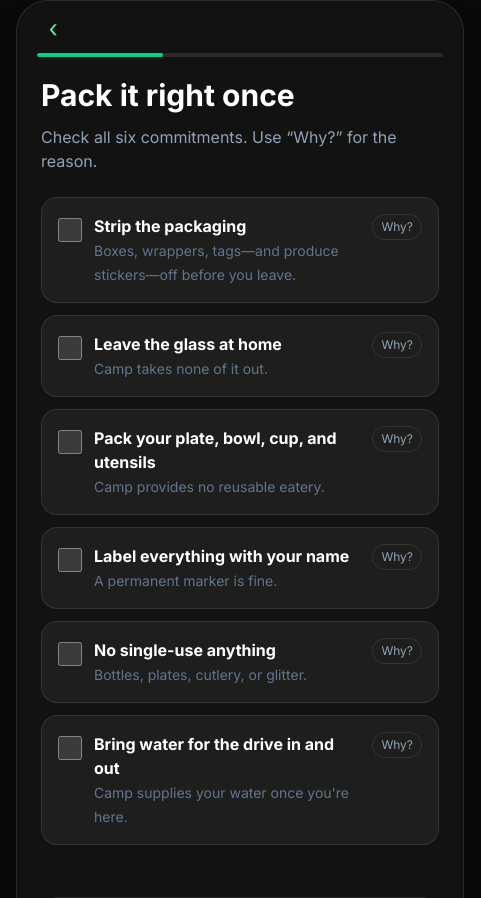
Test: LntModuleRunner › can navigate backward immediately after restoring saved progress
The image size is (481, 898).
What coordinates should you click on to do the following:
click the button named "Back"
I would click on:
 (53, 29)
Its box is [33,9,73,49].
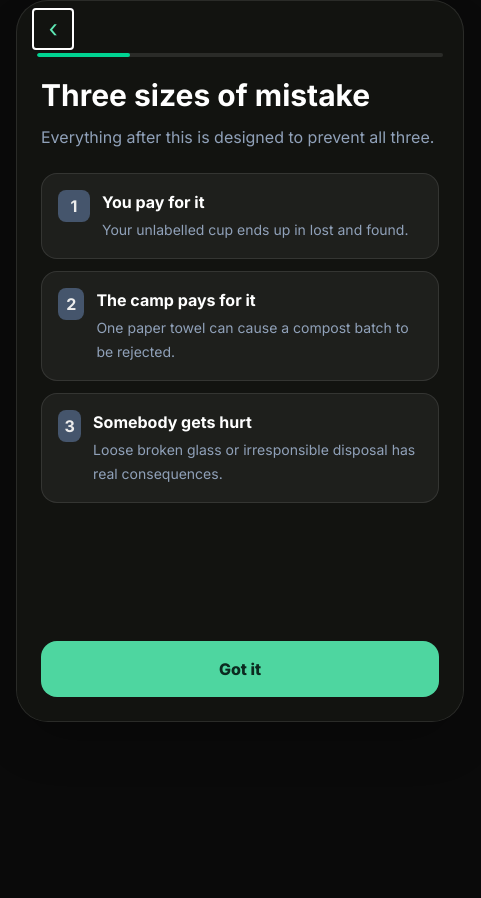
Expected: the heading "Three sizes of mistake" is shown, [41,77,370,113]
